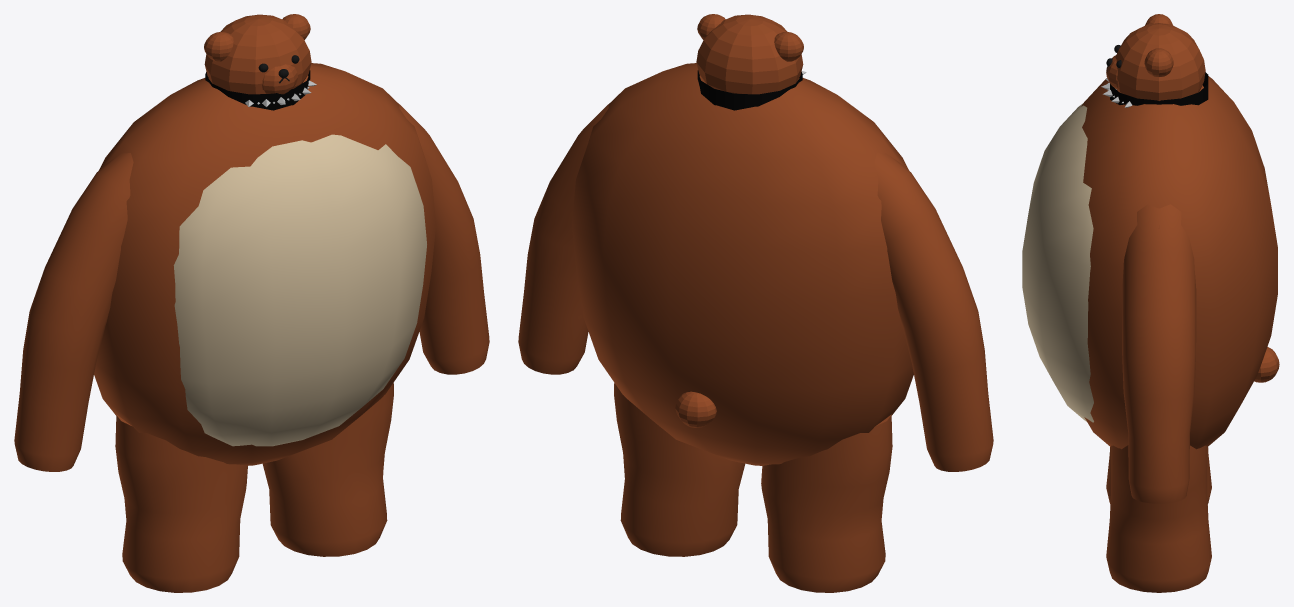
The model's file is BigBear_Blockout (2).fbx.
3 views of the same model, side by side, from view 1: azimuth 30°, elevation 25°; view 2: azimuth 150°, elevation 25°; view 3: azimuth 270°, elevation 25° (orthographic). The views are drawn at different scales.
Visible parts, largest first — view 1: Body1, Body, Arm_R, Leg_R, Leg_L, Arm_L, Head, pTorus3, Snout, Ear_R; view 2: Body, Arm_R, Leg_R, Leg_L, Arm_L, Head, pTorus3, Tail, Ear_R; view 3: Body, Arm_L, Body1, Leg_L, Head, pTorus3, Ear_L, Tail, Leg_R.
Boxes of the visible parts, x1=… form: Body1: x1=173, y1=134, x2=426, y2=446; Body: x1=94, y1=63, x2=435, y2=465; Arm_R: x1=14, y1=153, x2=133, y2=471; Leg_R: x1=115, y1=414, x2=247, y2=592; Leg_L: x1=262, y1=383, x2=393, y2=556; Arm_L: x1=399, y1=104, x2=489, y2=374; Head: x1=204, y1=14, x2=311, y2=94; pTorus3: x1=205, y1=70, x2=310, y2=110; Snout: x1=262, y1=64, x2=297, y2=94; Ear_R: x1=204, y1=32, x2=233, y2=61; Body: x1=572, y1=63, x2=913, y2=465; Arm_R: x1=874, y1=153, x2=993, y2=471; Leg_R: x1=761, y1=414, x2=892, y2=592; Leg_L: x1=614, y1=383, x2=745, y2=556; Arm_L: x1=518, y1=104, x2=608, y2=374; Head: x1=696, y1=14, x2=803, y2=94; pTorus3: x1=697, y1=70, x2=802, y2=110; Tail: x1=675, y1=391, x2=716, y2=427; Ear_R: x1=774, y1=32, x2=803, y2=61; Body: x1=1081, y1=76, x2=1277, y2=449; Arm_L: x1=1122, y1=204, x2=1196, y2=503; Body1: x1=1022, y1=103, x2=1093, y2=422; Leg_L: x1=1106, y1=445, x2=1211, y2=592; Head: x1=1115, y1=23, x2=1205, y2=100; pTorus3: x1=1110, y1=72, x2=1208, y2=105; Ear_L: x1=1144, y1=48, x2=1173, y2=76; Tail: x1=1254, y1=347, x2=1279, y2=382; Leg_R: x1=1106, y1=447, x2=1211, y2=504.
Size of the model in its own units: 7.03 by 7.68 by 3.49.
